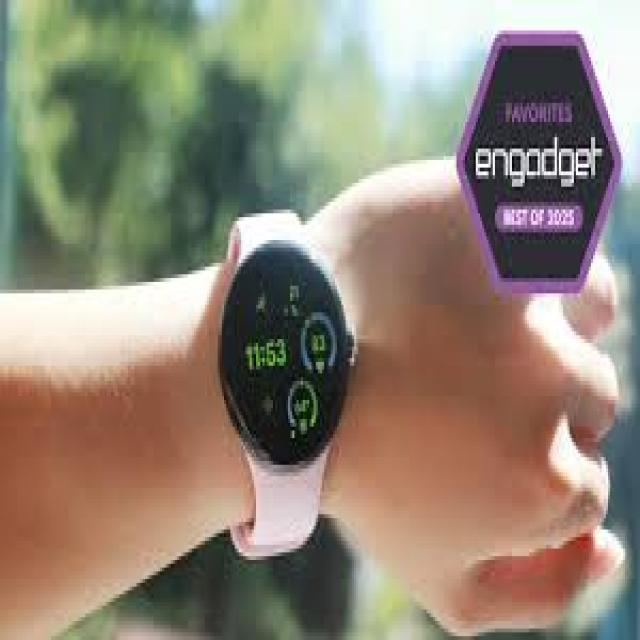objects: (214, 207, 358, 564)
